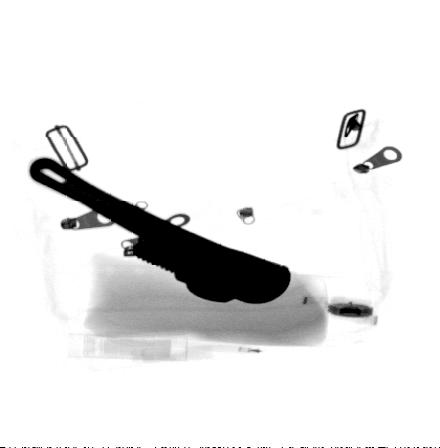Wrench: (27, 155, 292, 305)
